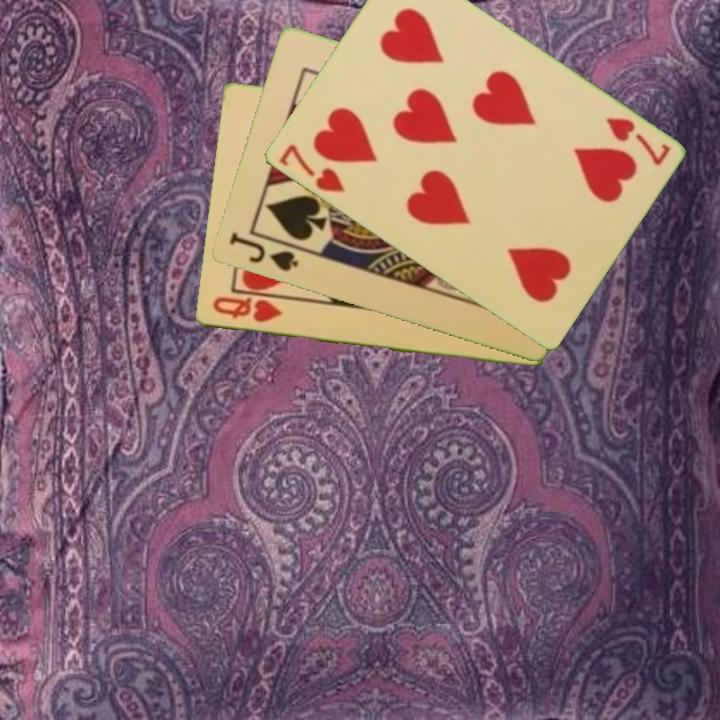7h: (275, 140, 347, 196), (601, 113, 673, 169)
Js: (225, 228, 301, 275)
Qh: (208, 293, 285, 326)
